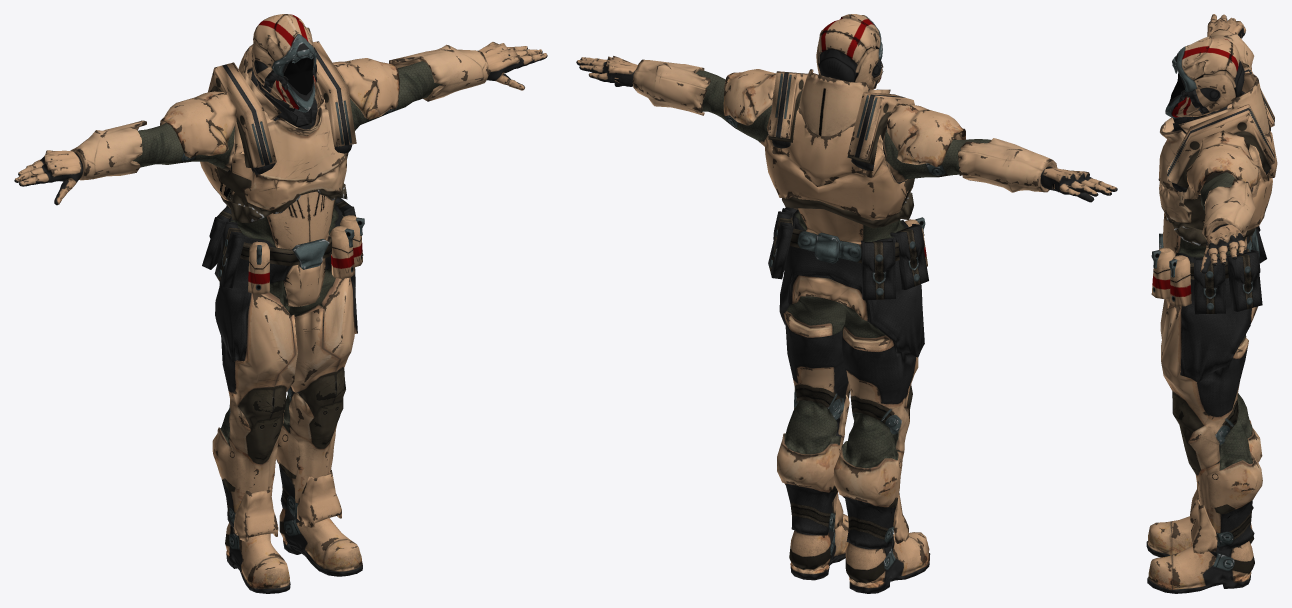
Rendered from particle4.glb.
3 views of the same model, side by side, from view 1: azimuth 30°, elevation 25°; view 2: azimuth 150°, elevation 25°; view 3: azimuth 270°, elevation 25° (orthographic). The views are drawn at different scales.
Parts seen in each view (by area): view 1: vanguard_Mesh; view 2: vanguard_Mesh; view 3: vanguard_Mesh.
Boxes of the visible parts, x1=… form: vanguard_Mesh: x1=14, y1=14, x2=547, y2=593; vanguard_Mesh: x1=576, y1=14, x2=1117, y2=593; vanguard_Mesh: x1=1146, y1=14, x2=1277, y2=593.
Size of the model in its own units: 10.84 by 10.77 by 2.4.
1 material, 1 textured.
